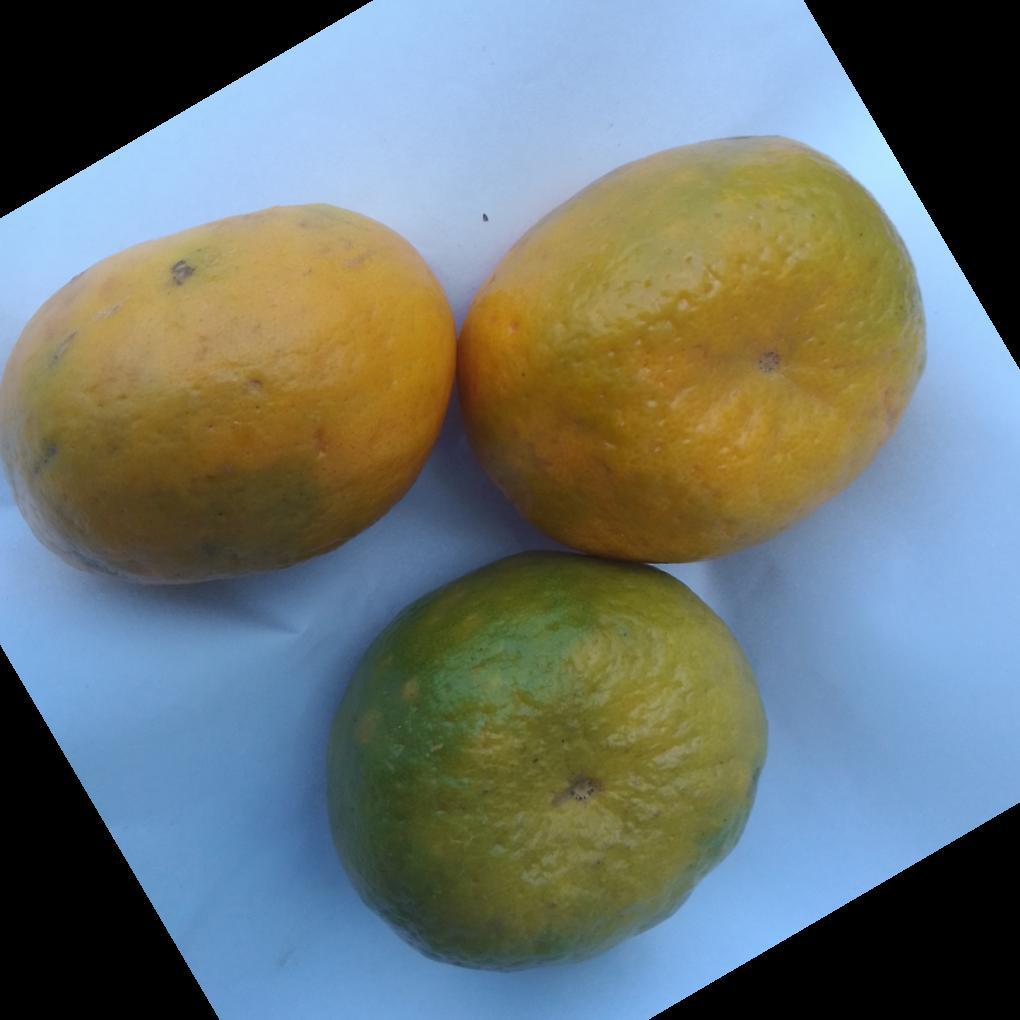FreshGuava: (0, 136, 927, 975)
